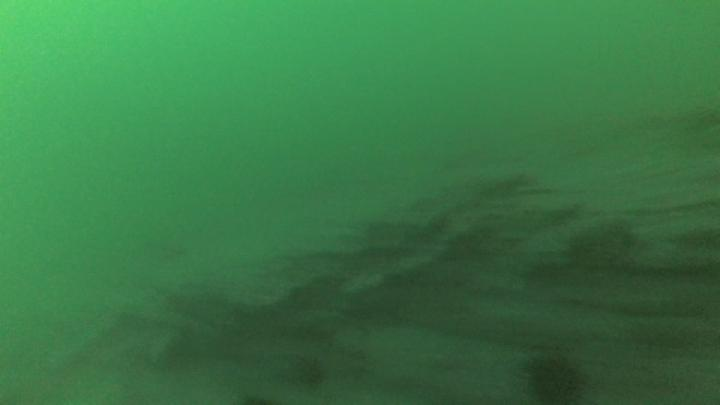echinus: (517, 349, 590, 405)
